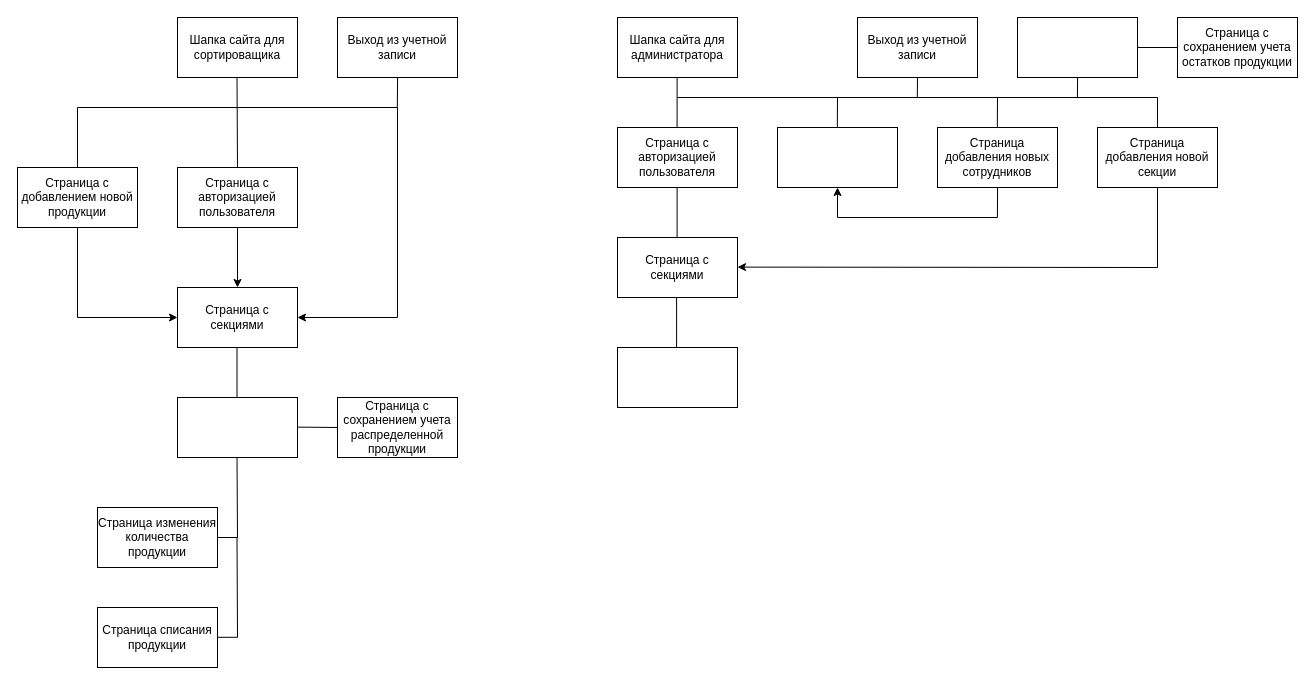
Some shapes in this 1315 by 685 pixel diagram are drawn without their labels. Each missing label, with the centre of its shape:
Страница "Сотрудники": point (837, 157)
Страница с остатками продукции: point (1077, 47)
Страница с продукцией: point (237, 427)
Страница с формой редактирования секции: point (677, 377)
